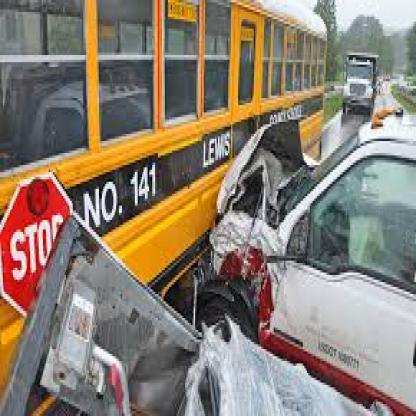accident: (20, 29, 416, 412)
